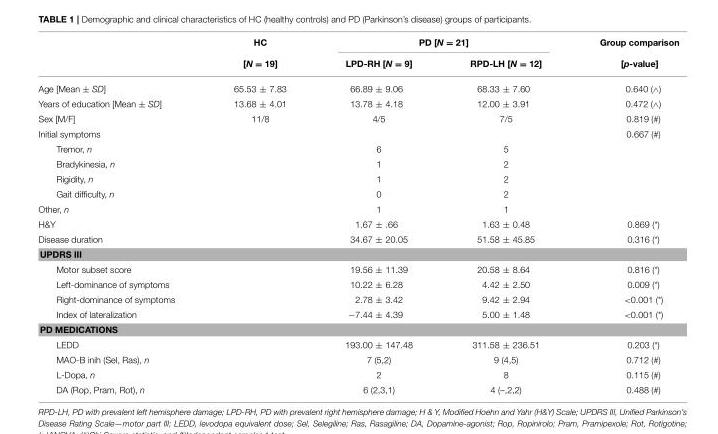table: (37, 37, 678, 394)
table column: (37, 37, 203, 394), (440, 37, 570, 394), (315, 37, 440, 394), (203, 37, 315, 394), (570, 37, 678, 394)
table column header: (37, 37, 678, 76)
table projected row header: (37, 246, 678, 261), (37, 322, 678, 337)
table row: (37, 52, 678, 76), (37, 76, 678, 96), (37, 306, 678, 322), (37, 37, 678, 52), (37, 96, 678, 111), (37, 111, 678, 126), (37, 126, 678, 141), (37, 141, 678, 156), (37, 156, 678, 171), (37, 171, 678, 186), (37, 186, 678, 201), (37, 201, 678, 216), (37, 216, 678, 231), (37, 231, 678, 246), (37, 246, 678, 261), (37, 261, 678, 276), (37, 276, 678, 291), (37, 291, 678, 306), (37, 322, 678, 337), (37, 337, 678, 352), (37, 352, 678, 367), (37, 367, 678, 382), (37, 382, 678, 394)
table spanning cell: (203, 37, 315, 76), (570, 37, 678, 76), (315, 37, 570, 52)
